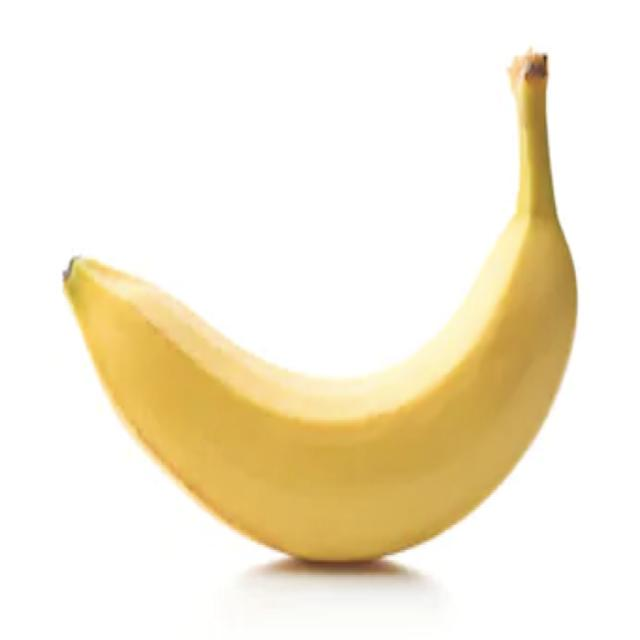Ripe: (49, 23, 597, 606)
